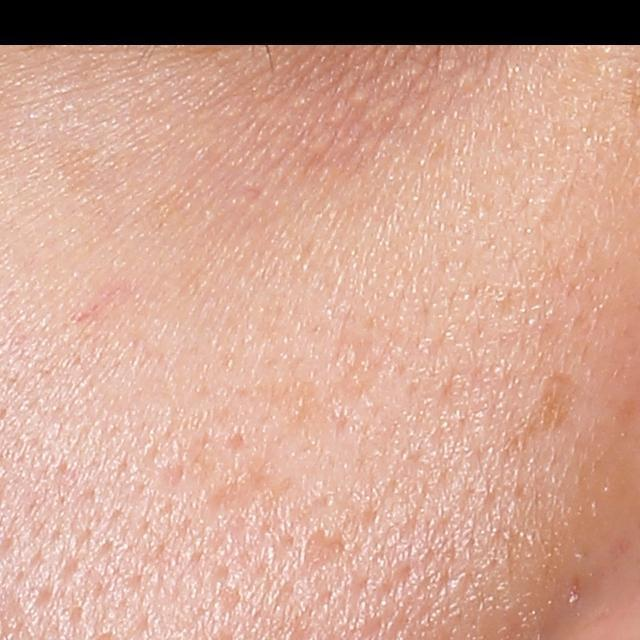atrophic_scar: (206, 472, 260, 512)
melasma: (494, 375, 582, 463)
